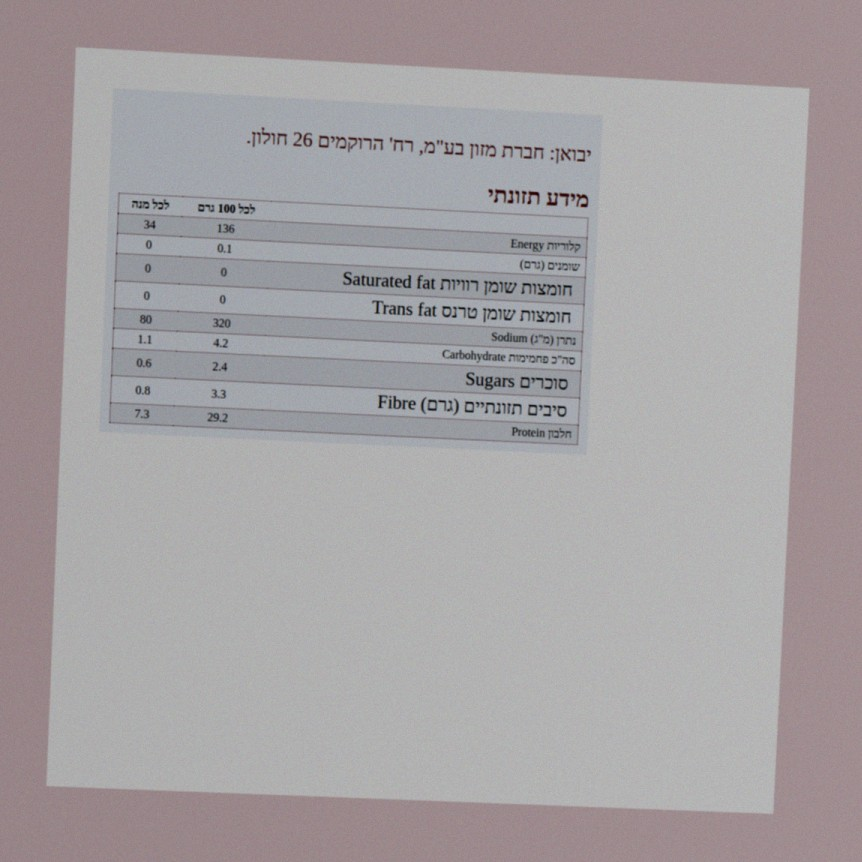carbs: (212, 335, 230, 351)
energy: (215, 220, 236, 237)
fat: (216, 240, 234, 257)
protein: (205, 409, 230, 426)
